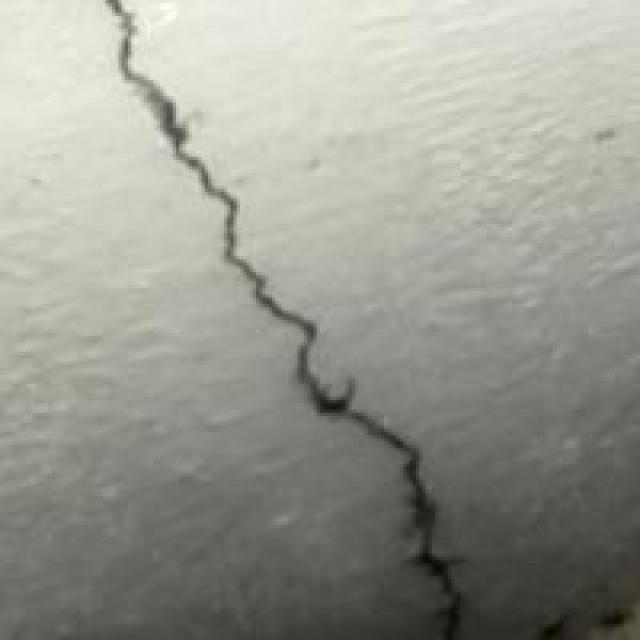crack: (93, 0, 611, 637)
